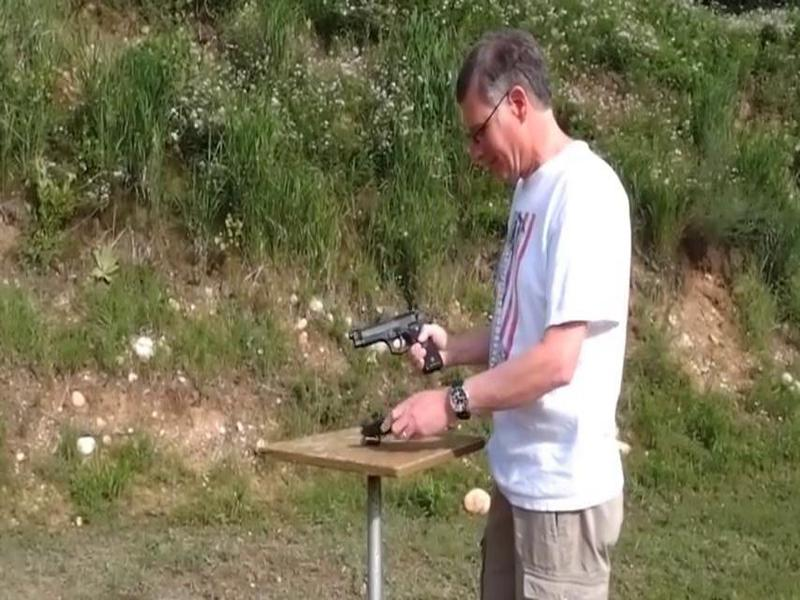Revolver: (342, 303, 441, 388)
